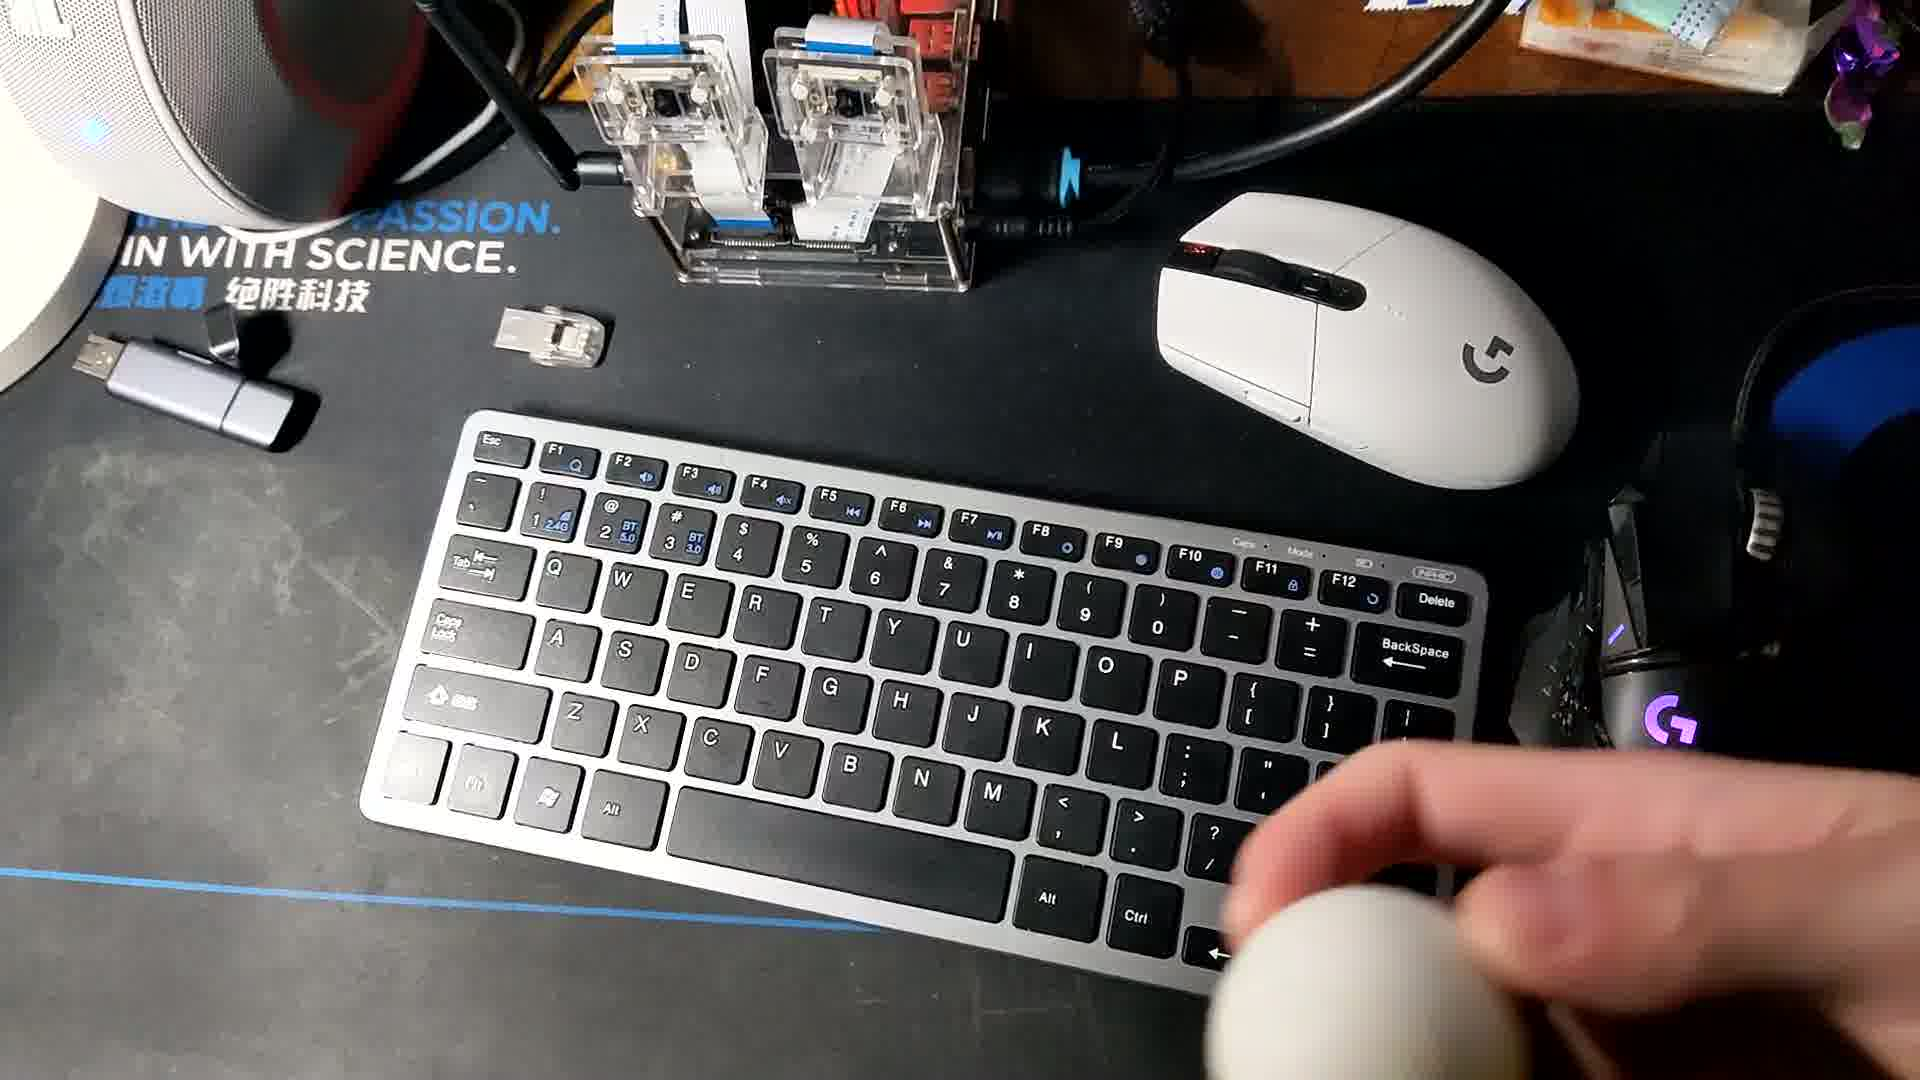Ball: (1200, 880, 1518, 1080)
